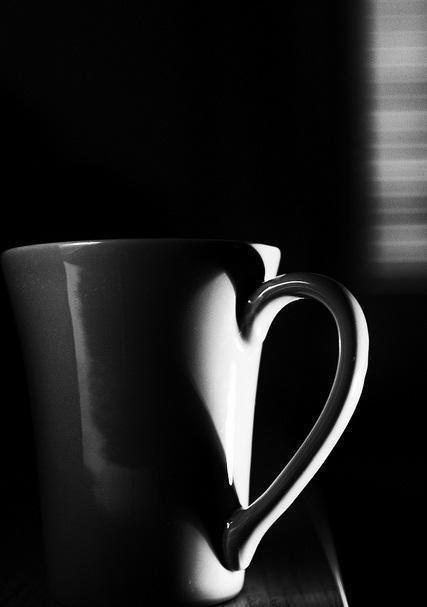cup-handle: (0, 236, 373, 606)
